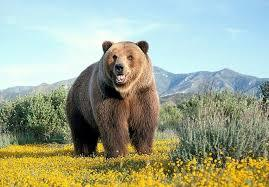bear: (65, 36, 161, 162)
